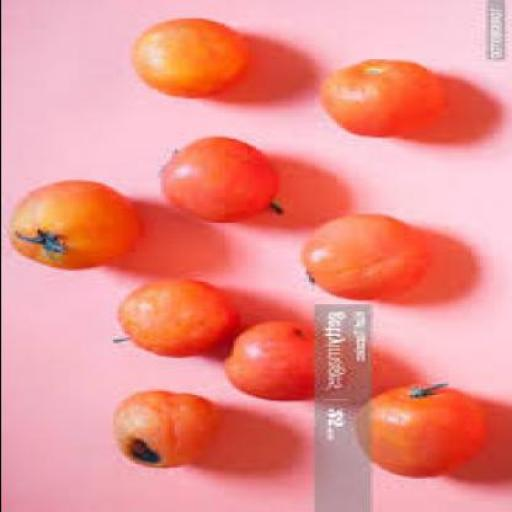biodegradable: (350, 380, 484, 477), (6, 178, 134, 269), (300, 210, 428, 298), (154, 133, 277, 219), (106, 278, 234, 356), (316, 57, 440, 137), (126, 16, 244, 98), (221, 320, 333, 400), (109, 388, 212, 468)
